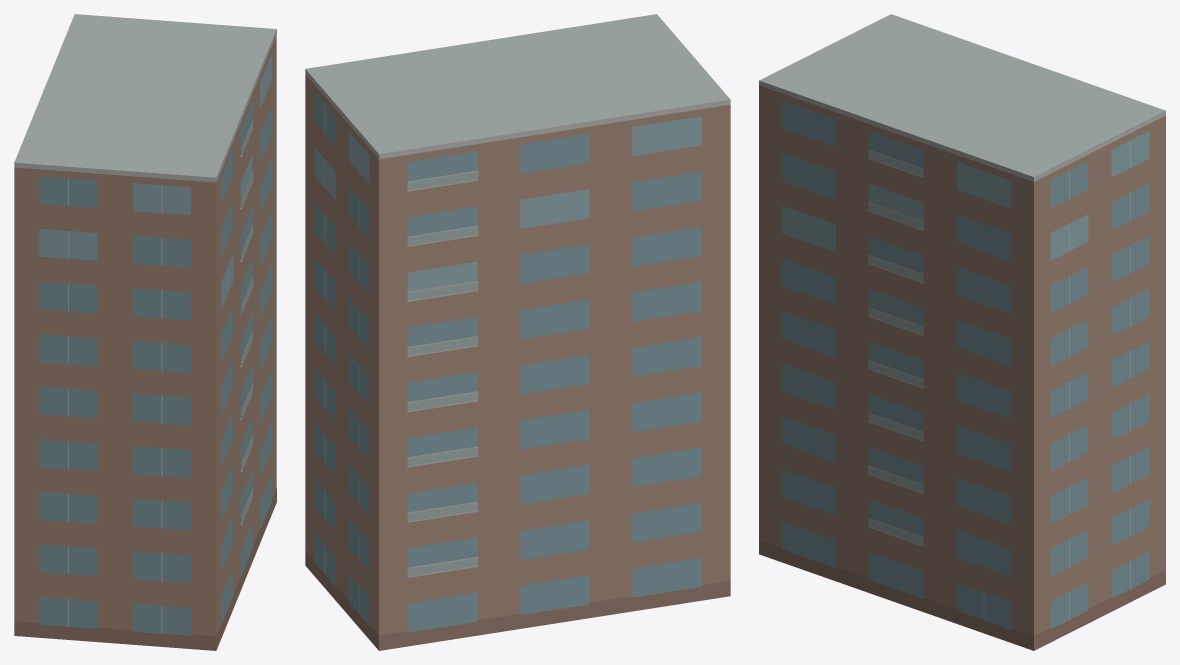
File: survey-upis-32670812.glb
The picture shows the model from 3 angles, left to right: view 1: azimuth 30°, elevation 25°; view 2: azimuth 150°, elevation 25°; view 3: azimuth 270°, elevation 25°; orthographic projection. The views are drawn at different scales.
Visible parts, largest first — view 1: survey-upis-32670812.tmp; view 2: survey-upis-32670812.tmp; view 3: survey-upis-32670812.tmp.
Boxes of the visible parts, bbox=[...] form: survey-upis-32670812.tmp: bbox=[14, 14, 276, 650]; survey-upis-32670812.tmp: bbox=[305, 14, 730, 650]; survey-upis-32670812.tmp: bbox=[759, 14, 1165, 650].
Bounding box in the file's own units: 17.66 × 23.9 × 18.61.
